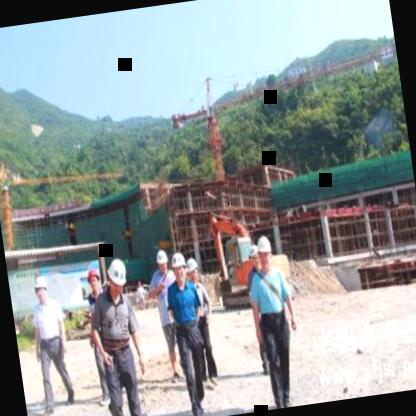helmet: (104, 254, 130, 302), (255, 232, 275, 272), (170, 247, 188, 285), (154, 244, 170, 276), (185, 254, 200, 288), (86, 268, 103, 297), (246, 244, 262, 274), (32, 274, 48, 303)
